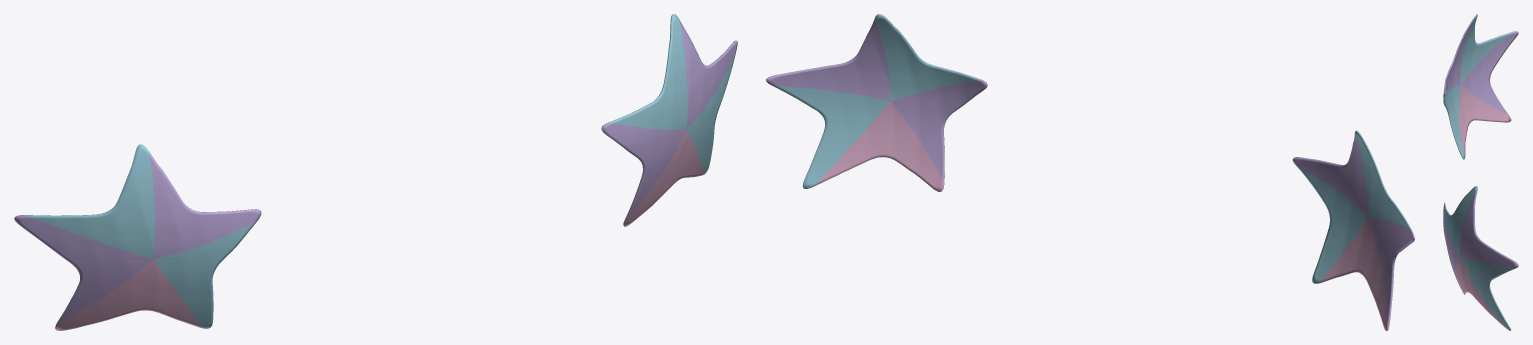
Rendered from Feminine-bandeau-top.glb.
3 renders of one model, left to right at view 1: azimuth 30°, elevation 25°; view 2: azimuth 150°, elevation 25°; view 3: azimuth 270°, elevation 25°, orthographic. The views are drawn at different scales.
Visible parts, largest first — view 1: Top / star pastie192 -1, Top / star pastie192 1; view 2: Top / star pastie192 1, Top / star pastie192 -1; view 3: Top / star pastie192 -1, Top / star pastie192 1.
Boxes of the visible parts, box(x1,y1,x2,y2) form: Top / star pastie192 -1: box(14, 144, 261, 330); Top / star pastie192 1: box(601, 14, 737, 226); Top / star pastie192 1: box(766, 14, 987, 191); Top / star pastie192 -1: box(1292, 130, 1414, 330); Top / star pastie192 -1: box(1443, 14, 1518, 159); Top / star pastie192 1: box(1443, 186, 1518, 330).
Bounding box in the file's own units: 0.4194 × 0.1062 × 0.0573.
